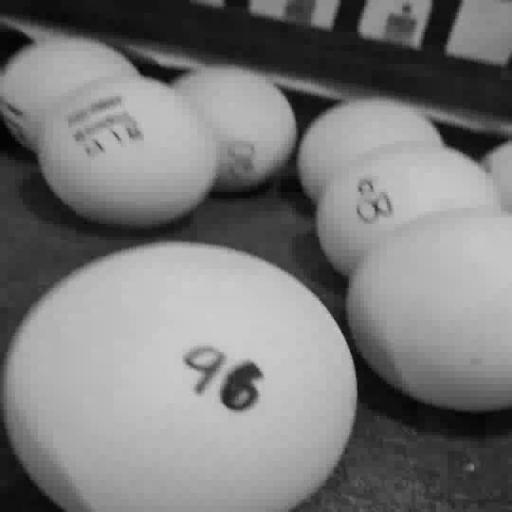fuel: (2, 242, 356, 511), (348, 210, 511, 412), (39, 77, 219, 227), (316, 145, 500, 275), (0, 36, 139, 151), (172, 66, 297, 191), (298, 98, 443, 203), (482, 141, 511, 212)
